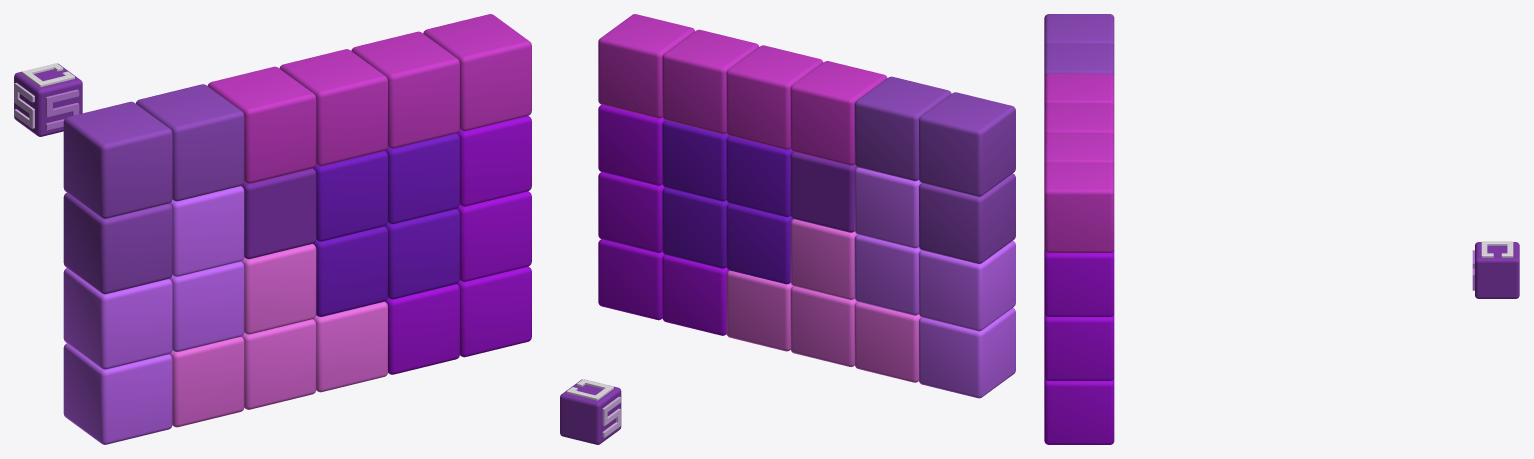
Rendered from scs-solid-puzzle.glb.
The picture shows the model from 3 angles, left to right: view 1: azimuth 30°, elevation 25°; view 2: azimuth 150°, elevation 25°; view 3: azimuth 270°, elevation 25°; orthographic projection. The views are drawn at different scales.
Visible parts, largest first — view 1: I Piece, S Piece, Corner Piece, D Piece, O Piece, L Piece, SOLID Piece, Cube, Solutions S, Solid S, Code C; view 2: I Piece, S Piece, Corner Piece, L Piece, D Piece, O Piece, SOLID Piece, Cube, Solid S, Code C; view 3: L Piece, I Piece, Corner Piece, Cube.
Part boxes in pixels (x1,y1,x2,y2): I Piece: (207,14,531,183); S Piece: (63,186,244,444); Corner Piece: (63,84,244,294); D Piece: (169,244,387,427); O Piece: (313,133,459,316); L Piece: (385,116,531,374); SOLID Piece: (241,168,316,259); Cube: (14,63,82,136); Solutions S: (45,89,79,130); Solid S: (14,82,34,128); Code C: (22,63,74,86); I Piece: (598,14,887,165); S Piece: (854,167,1015,398); Corner Piece: (854,76,1015,263); L Piece: (598,105,729,335); D Piece: (726,219,921,382); O Piece: (662,120,793,284); SOLID Piece: (790,152,857,232); Cube: (560,379,621,444); Solid S: (602,396,620,437); Code C: (566,379,613,400); L Piece: (1044,249,1114,444); I Piece: (1044,73,1114,252); Corner Piece: (1044,14,1114,76); Cube: (1475,242,1519,298).
Bounding box in the file's own units: 573 × 382 × 644.
